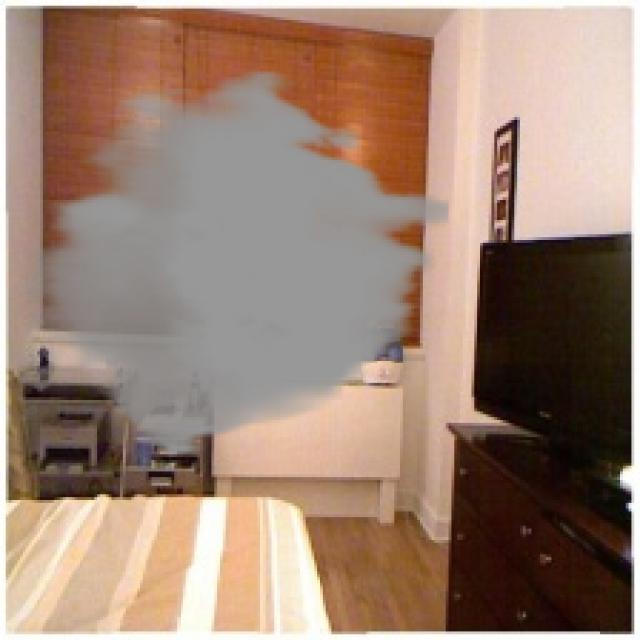smoke: (26, 69, 448, 457)
